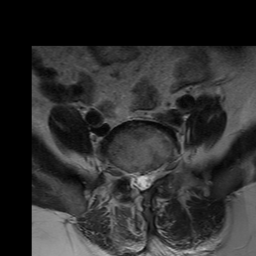CCS_normal: (138, 161, 146, 198)
LFS_normal: (154, 156, 162, 187)
LLS_normal: (146, 160, 154, 191)
RFS_normal: (120, 160, 129, 187)
RLS_normal: (129, 163, 138, 195)
